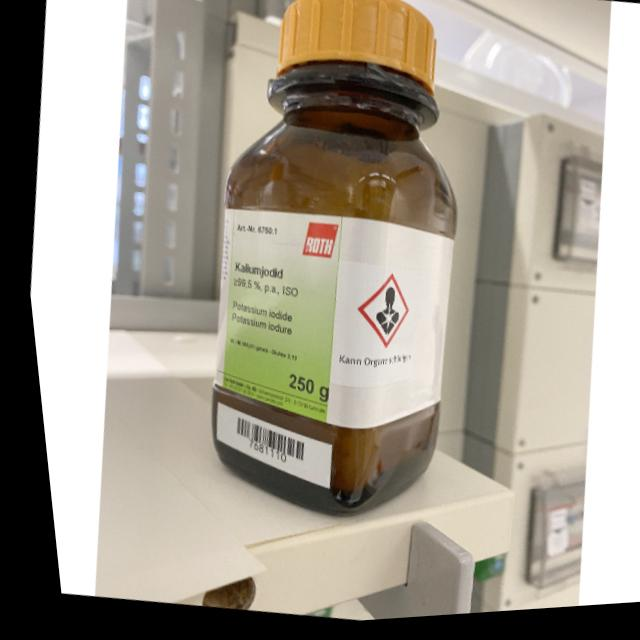serious health hazard: (363, 290, 397, 342)
